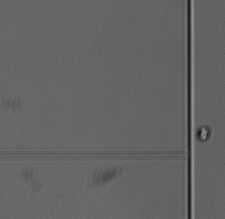Dead Cell: (195, 124, 211, 142)
